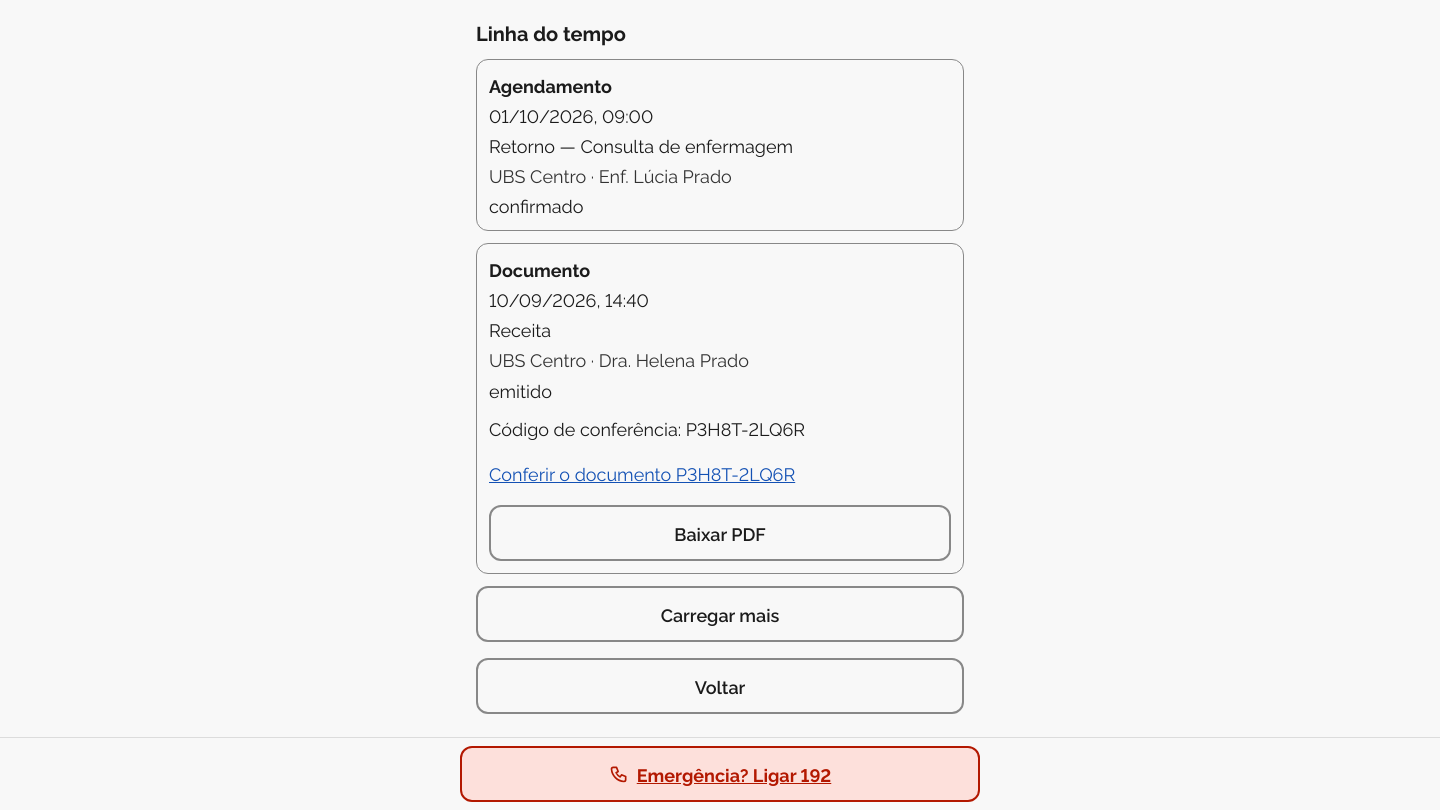
Test: MyHistoryStep › carregar mais: cursor como veio e sem repetir
The image size is (1440, 810).
(page scrolled)
Click the button "Carregar mais" at (720, 614), box top-left (476, 586), bottom-right (964, 642)
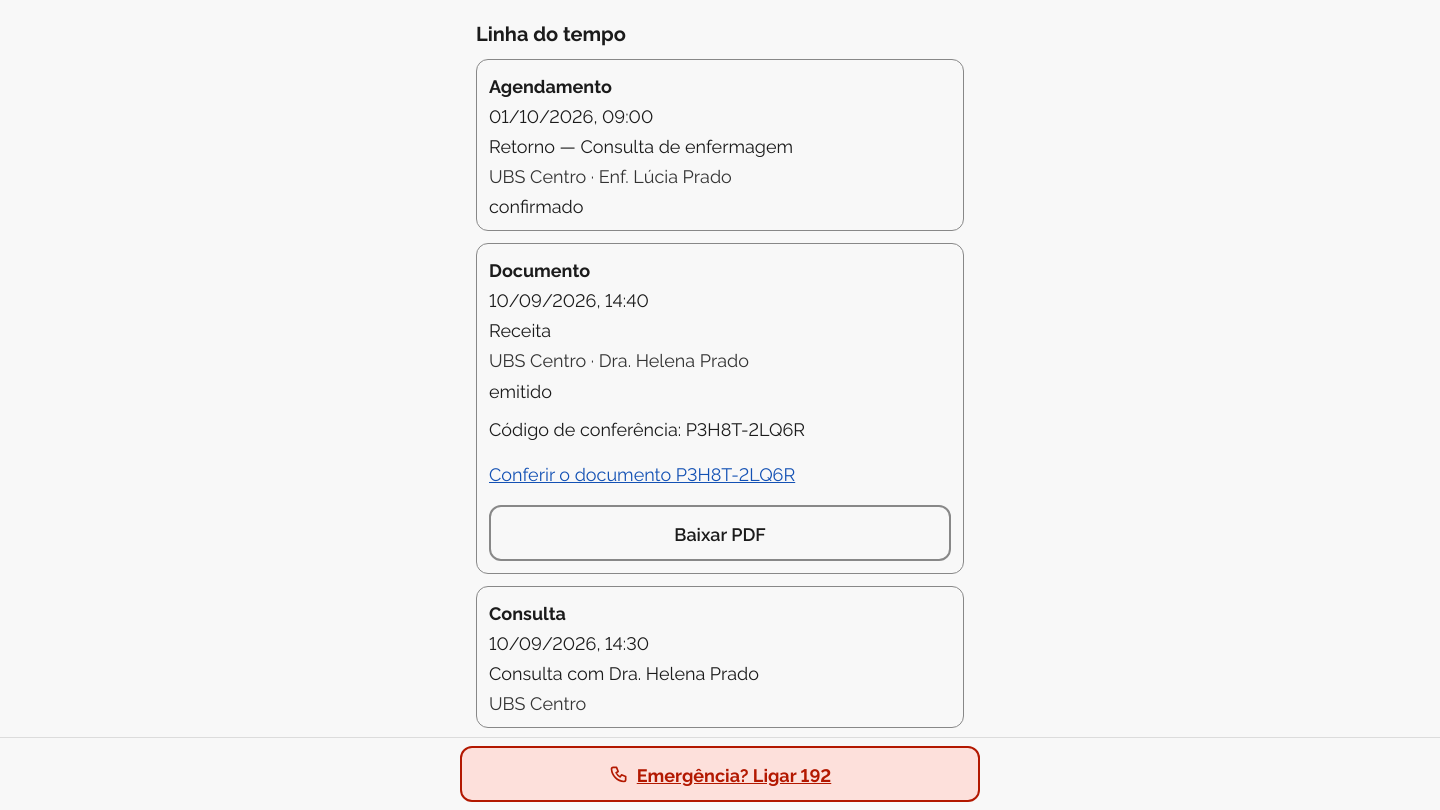
Expected: the text "Receita" is shown once, top-left (489, 316), bottom-right (551, 341)
Now the text "Consulta com Dra. Helena Prado" is shown, box top-left (489, 659), bottom-right (759, 684)
Now the button "Carregar mais" is gone
